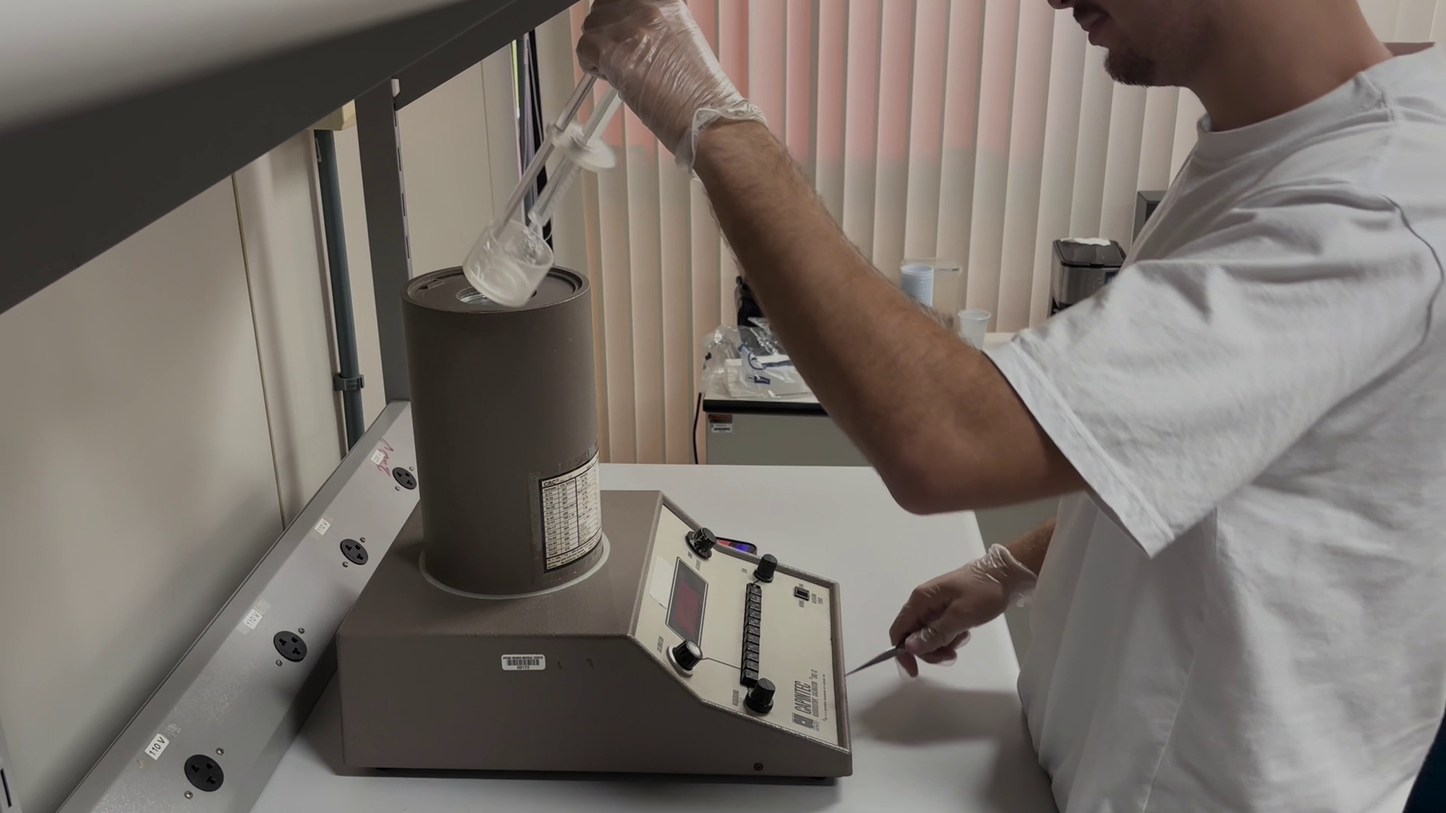Ativimetro: (399, 247, 610, 586)
Cesta: (457, 67, 624, 306)
Com_Luva: (580, 2, 767, 175), (886, 538, 1039, 678)
